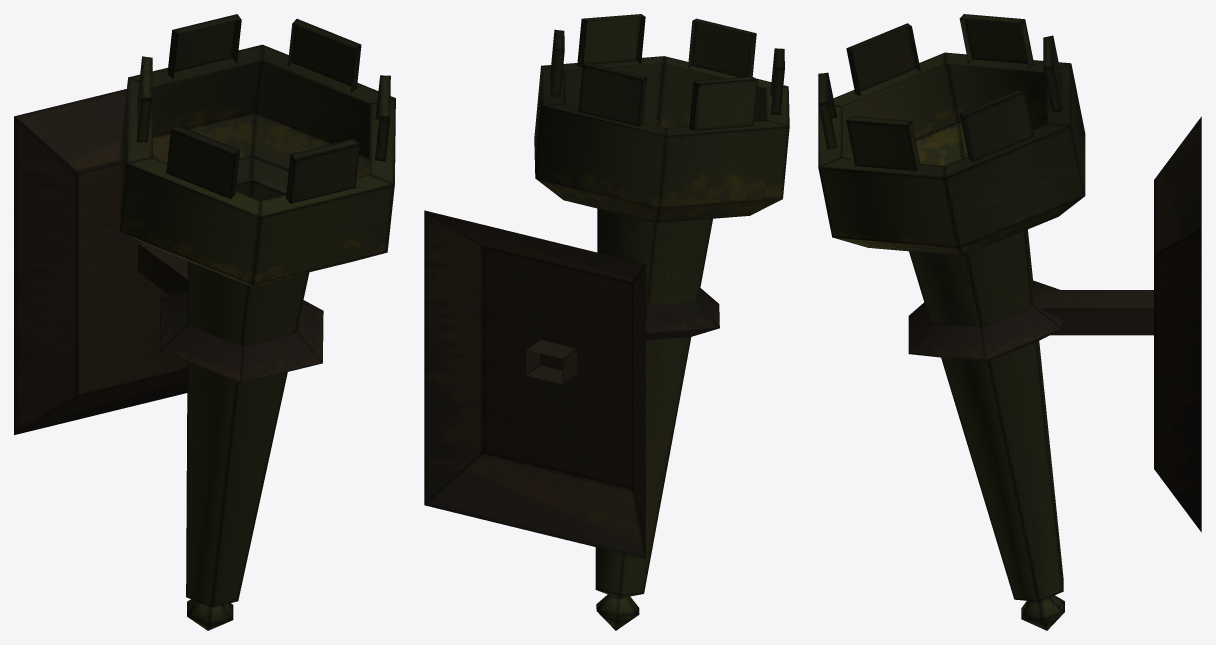
File: Torch.fbx
3 renders of one model, left to right at view 1: azimuth 30°, elevation 25°; view 2: azimuth 150°, elevation 25°; view 3: azimuth 270°, elevation 25°, orthographic. The views are drawn at different scales.
Parts seen in each view (by area): view 1: Torch; view 2: Torch; view 3: Torch.
Boxes of the visible parts, x1,y1,x2,y2 form: Torch: [14, 14, 395, 630]; Torch: [424, 14, 789, 630]; Torch: [818, 14, 1201, 630].
Size of the model in its own units: 0.2942 by 0.6343 by 0.38.
